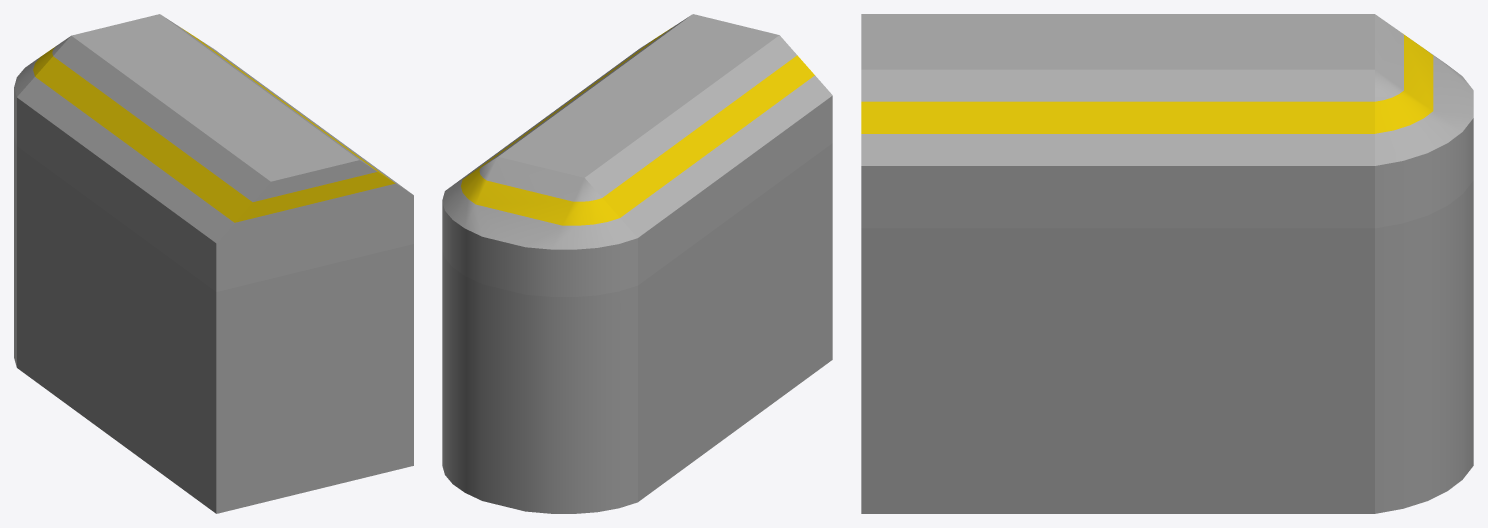
The model's file is env_building_jerseybarrier_end_lod1.fbx.
The picture shows the model from 3 angles, left to right: view 1: azimuth 30°, elevation 25°; view 2: azimuth 150°, elevation 25°; view 3: azimuth 270°, elevation 25°; orthographic projection. The views are drawn at different scales.
Parts seen in each view (by area): view 1: polySurface1587; view 2: polySurface1587; view 3: polySurface1587.
Boxes of the visible parts, x1=… form: polySurface1587: x1=14, y1=14, x2=413, y2=513; polySurface1587: x1=442, y1=14, x2=832, y2=513; polySurface1587: x1=861, y1=14, x2=1473, y2=513.
Bounding box in the file's own units: 14.38 × 22.19 × 30.
